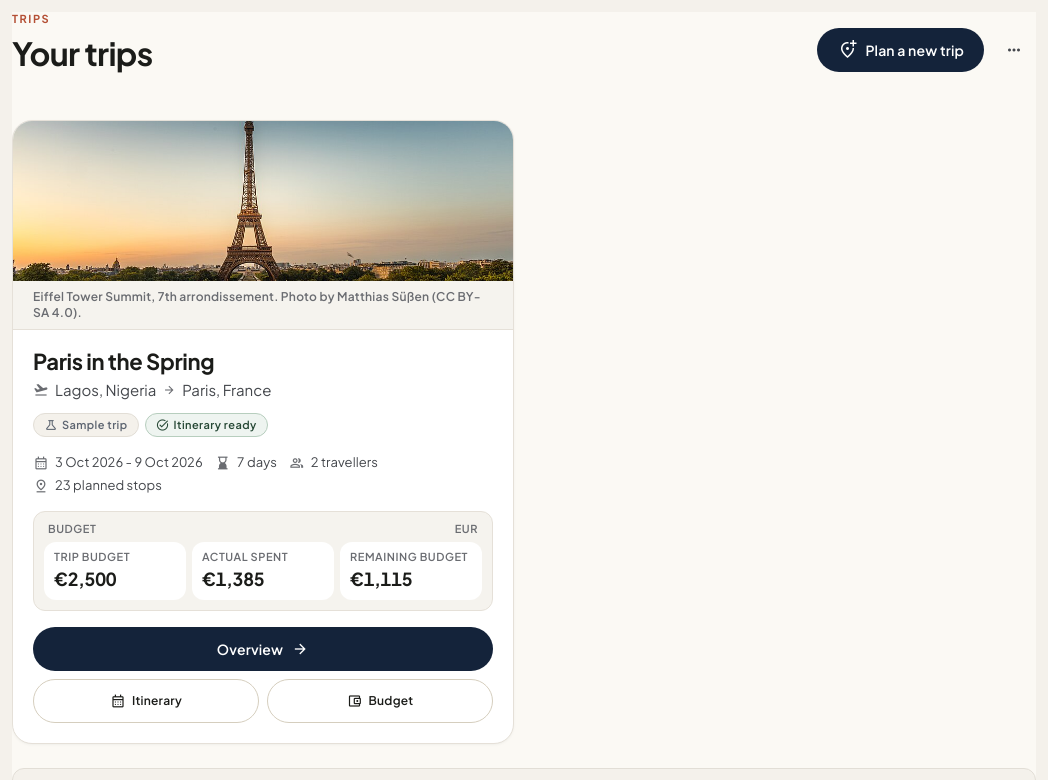
Test: TripsHomePage › telling sample data apart from the traveller own trips › will not add the sample trip twice
Click the button named "Sample data and reset options". click: (1014, 50)
box: x1=992 y1=28 x2=1036 y2=72
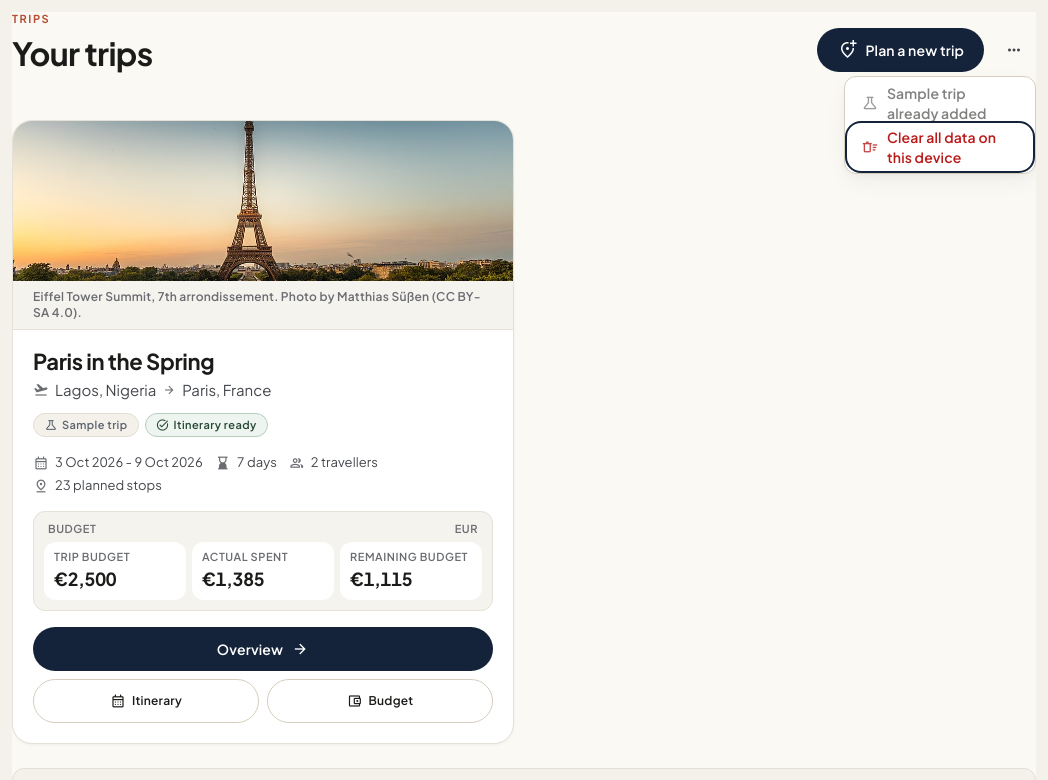
Check: the menu item "Sample trip already added" is disabled, box x1=849 y1=81 x2=1031 y2=125
